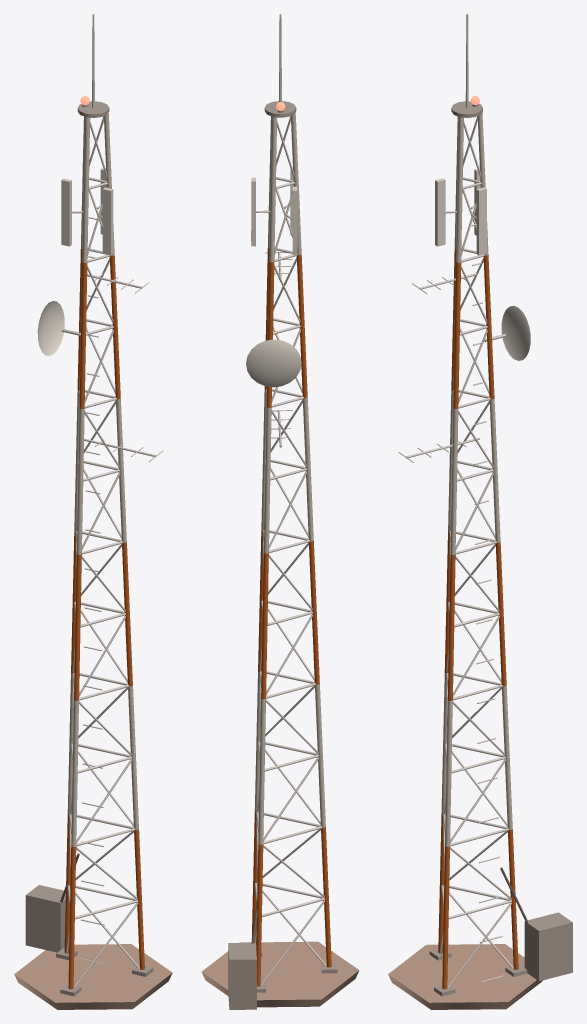
The model's file is D12_lattice_mast_12m.glb.
The picture shows the model from 3 angles, left to right: view 1: azimuth 30°, elevation 25°; view 2: azimuth 150°, elevation 25°; view 3: azimuth 270°, elevation 25°; orthographic projection.
Visible parts, largest first — view 1: leg, girt, foundation, leg_shoe, dish; view 2: leg, girt, foundation, leg_shoe, dish; view 3: leg, girt, foundation, leg_shoe, dish.
Boxes of the visible parts, <box> form: leg: <box>60,113,144,989</box>; girt: <box>61,14,162,987</box>; foundation: <box>14,944,172,1009</box>; leg_shoe: <box>25,101,153,996</box>; dish: <box>37,301,64,355</box>; leg: <box>251,112,331,986</box>; girt: <box>254,14,326,985</box>; foundation: <box>201,941,359,1007</box>; leg_shoe: <box>228,101,337,1009</box>; dish: <box>246,339,301,387</box>; leg: <box>435,112,528,989</box>; girt: <box>398,14,513,987</box>; foundation: <box>388,944,542,1009</box>; leg_shoe: <box>429,101,572,996</box>; dish: <box>501,305,530,360</box>.
Bounding box in the file's own units: 1.76 × 13.47 × 2.33.
